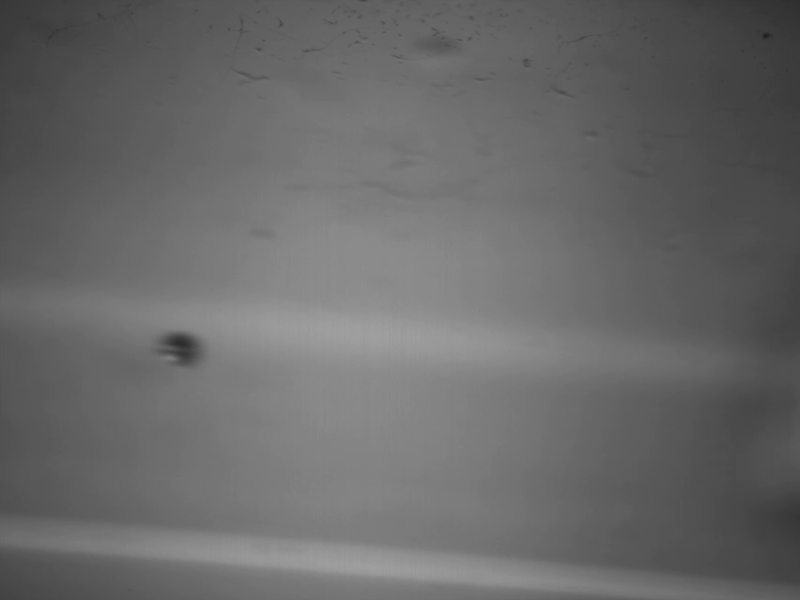bead: (154, 331, 206, 371)
